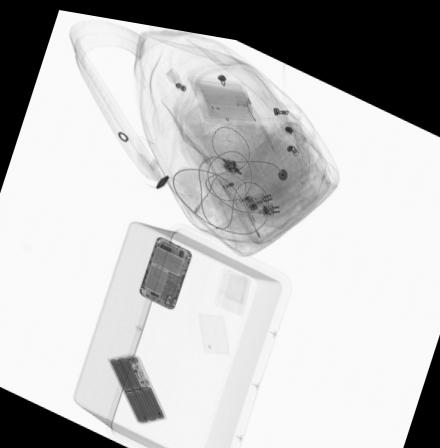Powerbank: (106, 347, 167, 418)
